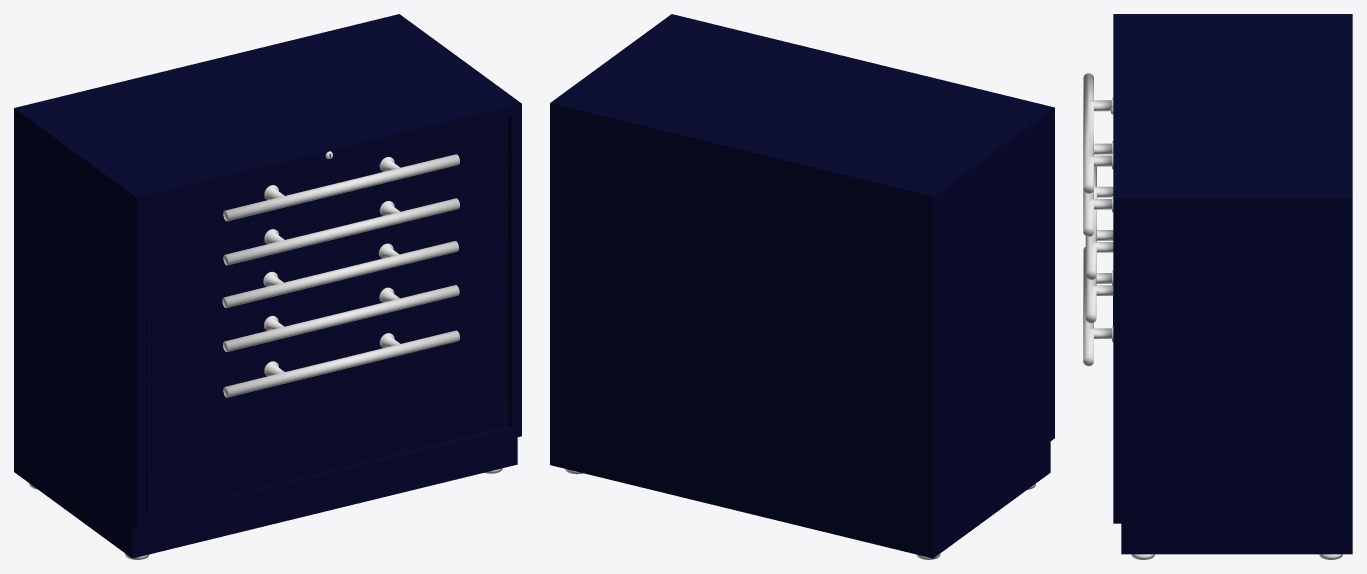
The model's file is drawer5Base40Lux.glb.
3 renders of one model, left to right at view 1: azimuth 30°, elevation 25°; view 2: azimuth 150°, elevation 25°; view 3: azimuth 270°, elevation 25°, orthographic. The views are drawn at different scales.
Parts seen in each view (by area): view 1: baseDrawerShell, drawers, handles; view 2: baseDrawerShell; view 3: baseDrawerShell, handles.
Boxes of the visible parts, x1=… form: baseDrawerShell: x1=14, y1=14, x2=521, y2=558; drawers: x1=146, y1=117, x2=508, y2=515; handles: x1=222, y1=154, x2=459, y2=397; baseDrawerShell: x1=550, y1=14, x2=1054, y2=558; baseDrawerShell: x1=1113, y1=14, x2=1352, y2=554; handles: x1=1083, y1=73, x2=1113, y2=366.
Bounding box in the file's own units: 1.02 × 0.9382 × 0.6287.
